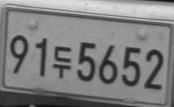1: (33, 37, 52, 77)
2: (144, 47, 164, 89)
5: (120, 46, 141, 86), (77, 41, 96, 82)
6: (98, 44, 118, 84)
9: (9, 33, 29, 74)
두: (53, 45, 71, 78)
